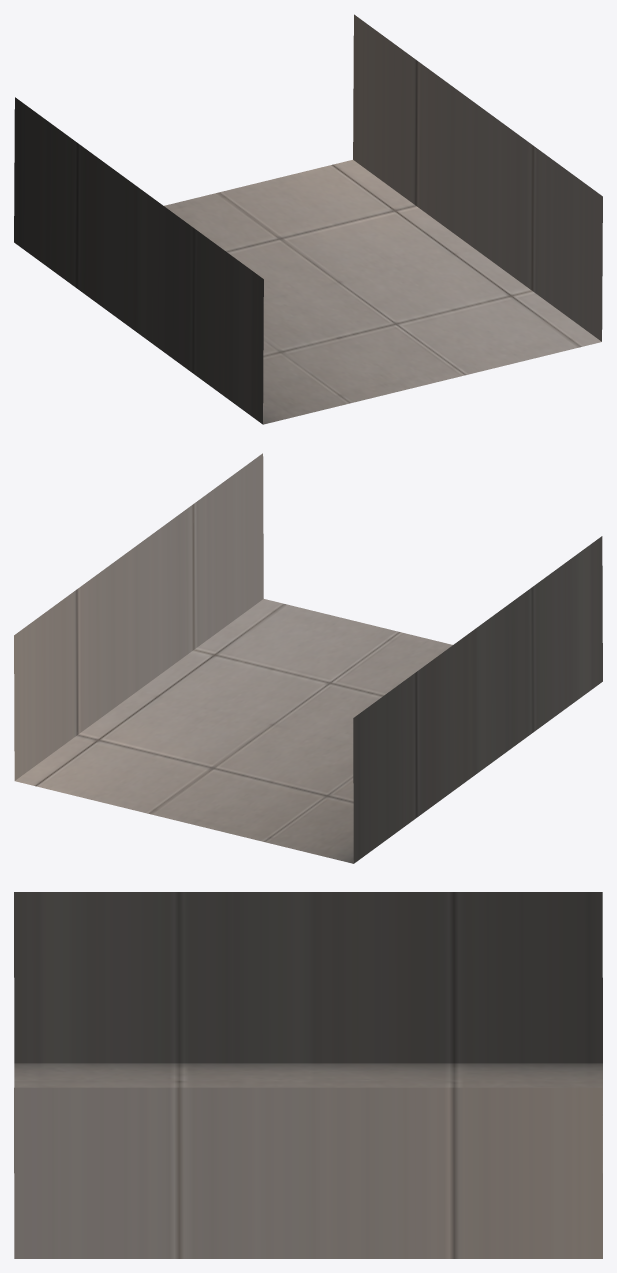
Rendered from floor.fbx.
3 renders of one model, top to bottom at view 1: azimuth 30°, elevation 25°; view 2: azimuth 150°, elevation 25°; view 3: azimuth 270°, elevation 25°, orthographic. The views are drawn at different scales.
Visible parts, largest first — view 1: floor; view 2: floor; view 3: floor.
Boxes of the visible parts, x1=… form: floor: x1=14, y1=14, x2=602, y2=424; floor: x1=14, y1=453, x2=602, y2=863; floor: x1=14, y1=892, x2=602, y2=1258.
Size of the model in its own units: 15414 by 6300 by 19577.
Materials: 1 (1 with a texture image).
